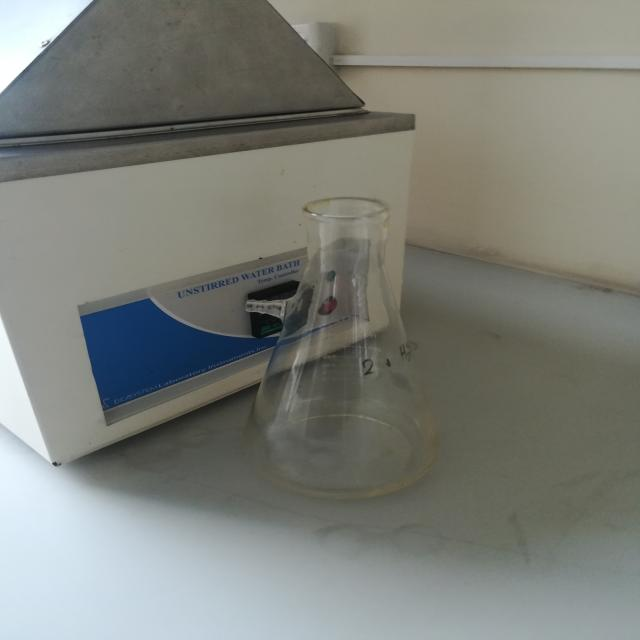Conical_Flask: (209, 162, 485, 524)
